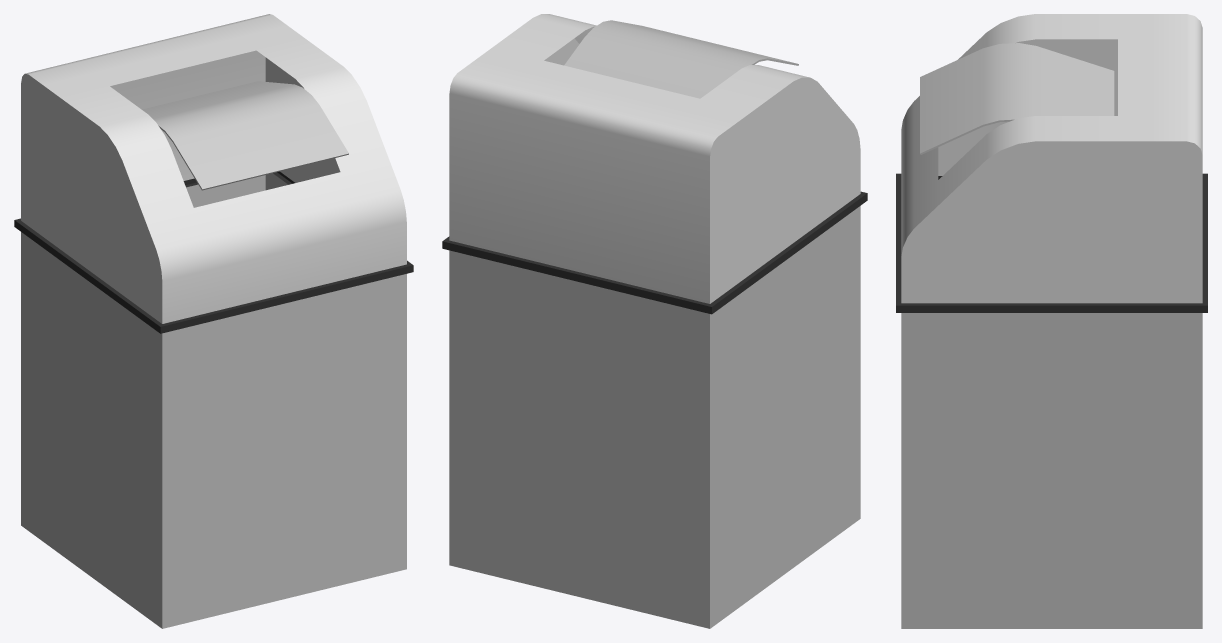
Rendered from trash_can_2.glb.
3 renders of one model, left to right at view 1: azimuth 30°, elevation 25°; view 2: azimuth 150°, elevation 25°; view 3: azimuth 270°, elevation 25°, orthographic. The views are drawn at different scales.
Visible parts, largest first — view 1: trash_can_2; view 2: trash_can_2; view 3: trash_can_2.
Boxes of the visible parts, box(x1,y1,x2,y2) form: trash_can_2: box(14, 14, 413, 628); trash_can_2: box(442, 14, 867, 628); trash_can_2: box(896, 14, 1207, 628).
Size of what is drawn, in the model's own units: 0.3176 by 0.5476 by 0.3176.
Materials: 1 (1 with a texture image).
